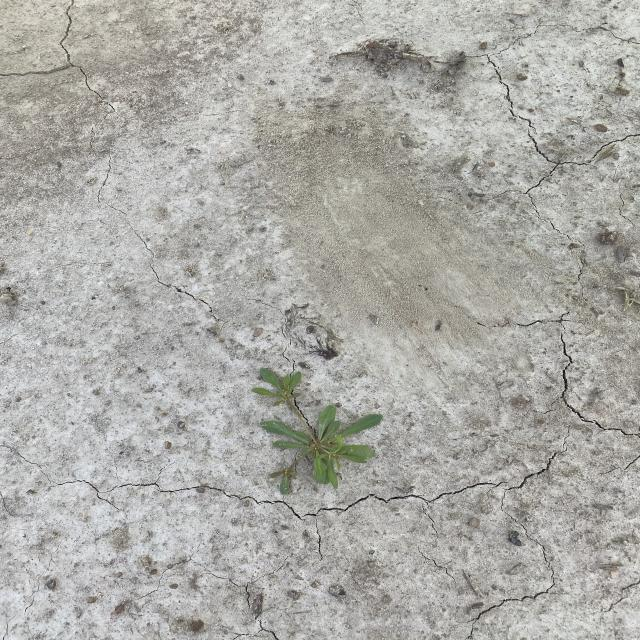Carpetweed: (249, 366, 384, 496)
